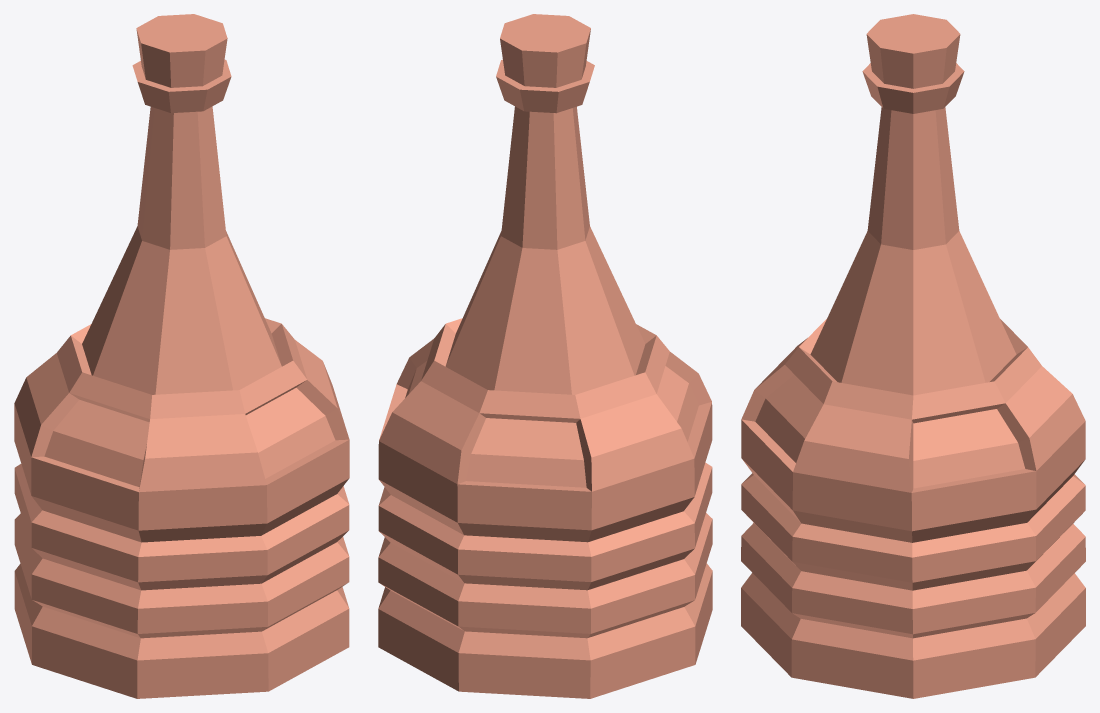
The model's file is Bottle Wine.fbx.
3 views of the same model, side by side, from view 1: azimuth 30°, elevation 25°; view 2: azimuth 150°, elevation 25°; view 3: azimuth 270°, elevation 25° (orthographic).
Visible parts, largest first — view 1: Bottle Wine; view 2: Bottle Wine; view 3: Bottle Wine.
Boxes of the visible parts, bbox=[...] form: Bottle Wine: bbox=[14, 14, 349, 698]; Bottle Wine: bbox=[378, 14, 712, 698]; Bottle Wine: bbox=[741, 14, 1085, 698].
Size of the model in its own units: 23.3 by 44.16 by 23.3.
